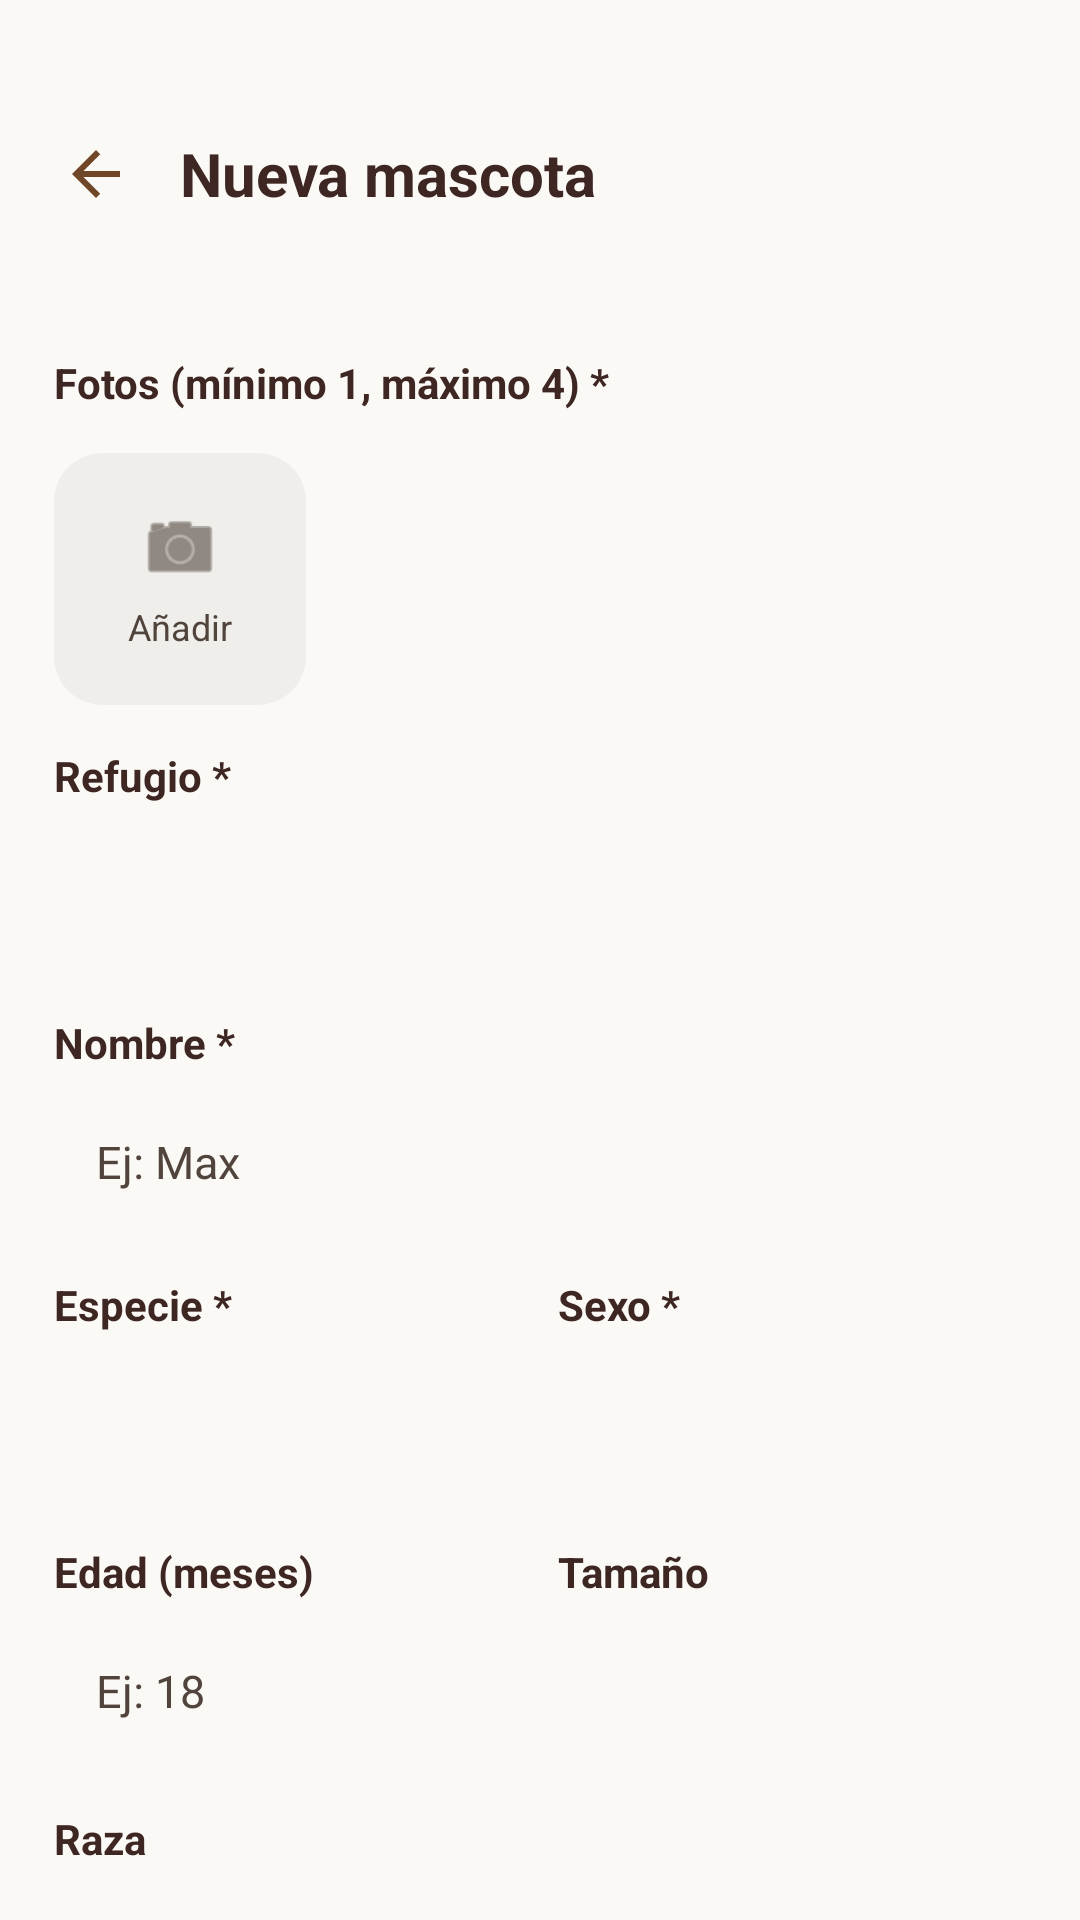

Named icons in this screenshot (1080x1920) and their centers, (x=x, y=y):
Volver: (x=96, y=174)
